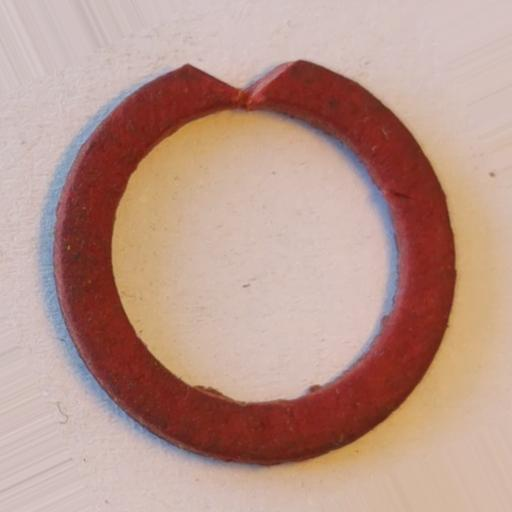defect: (188, 59, 301, 101)
